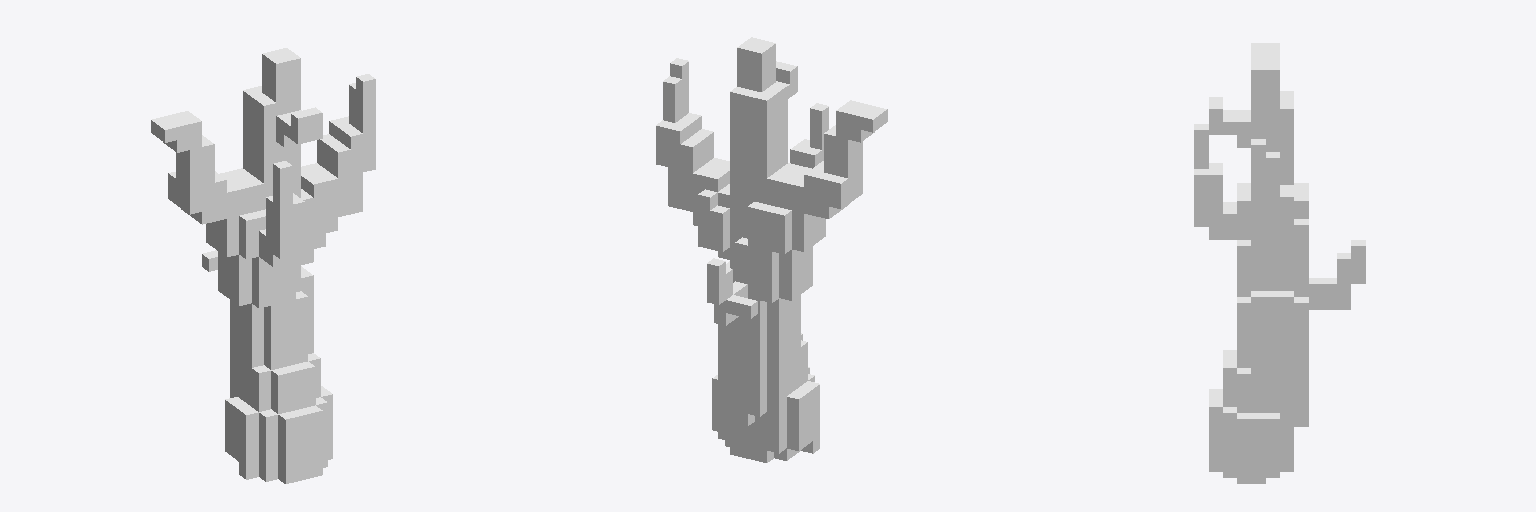
File: TreeDead.obj
3 renders of one model, left to right at view 1: azimuth 30°, elevation 25°; view 2: azimuth 150°, elevation 25°; view 3: azimuth 270°, elevation 25°, orthographic.
Visible parts, largest first — view 1: object 1; view 2: object 1; view 3: object 1.
Boxes of the visible parts, box(x1,y1,x2,y2) form: object 1: box(151, 48, 375, 483); object 1: box(656, 37, 887, 462); object 1: box(1194, 43, 1365, 483).
Size of the model in its own units: 1.7 by 3.1 by 1.2.